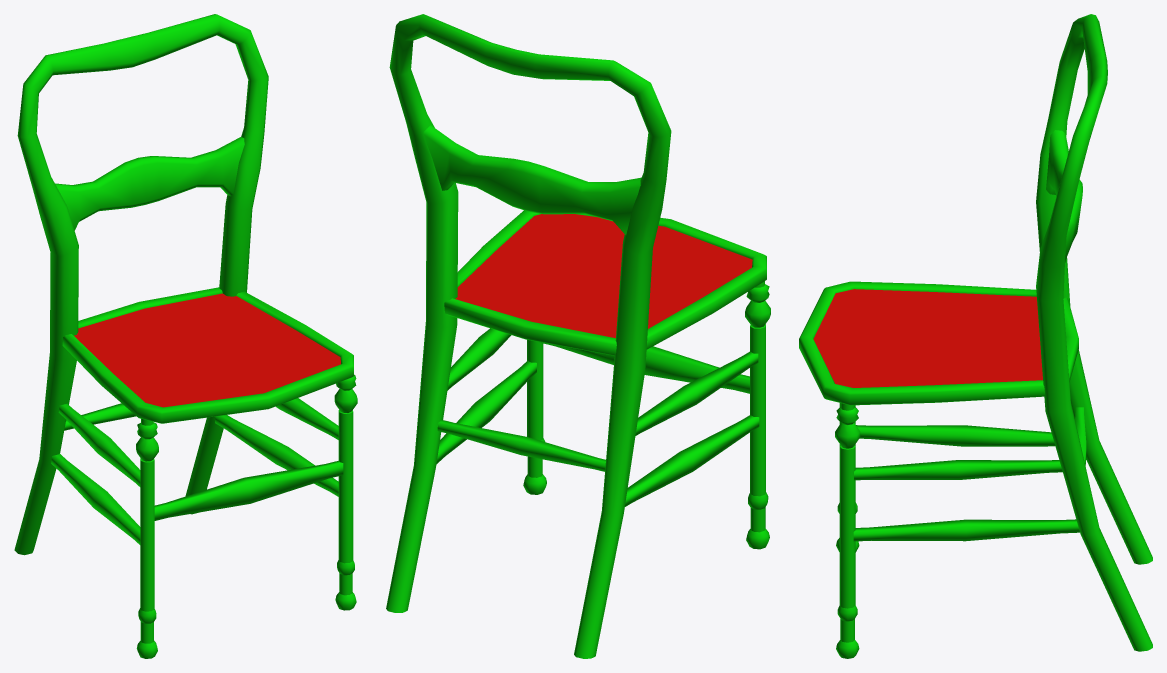
Rendered from sh_chair.fbx.
3 renders of one model, left to right at view 1: azimuth 30°, elevation 25°; view 2: azimuth 150°, elevation 25°; view 3: azimuth 270°, elevation 25°, orthographic. The views are drawn at different scales.
Parts seen in each view (by area): view 1: sh_chair; view 2: sh_chair; view 3: sh_chair.
Boxes of the visible parts, <box> form: sh_chair: <box>14,14,357,658</box>; sh_chair: <box>386,14,770,658</box>; sh_chair: <box>799,14,1152,658</box>.
Bounding box in the file's own units: 60.21 × 119 × 70.01.
